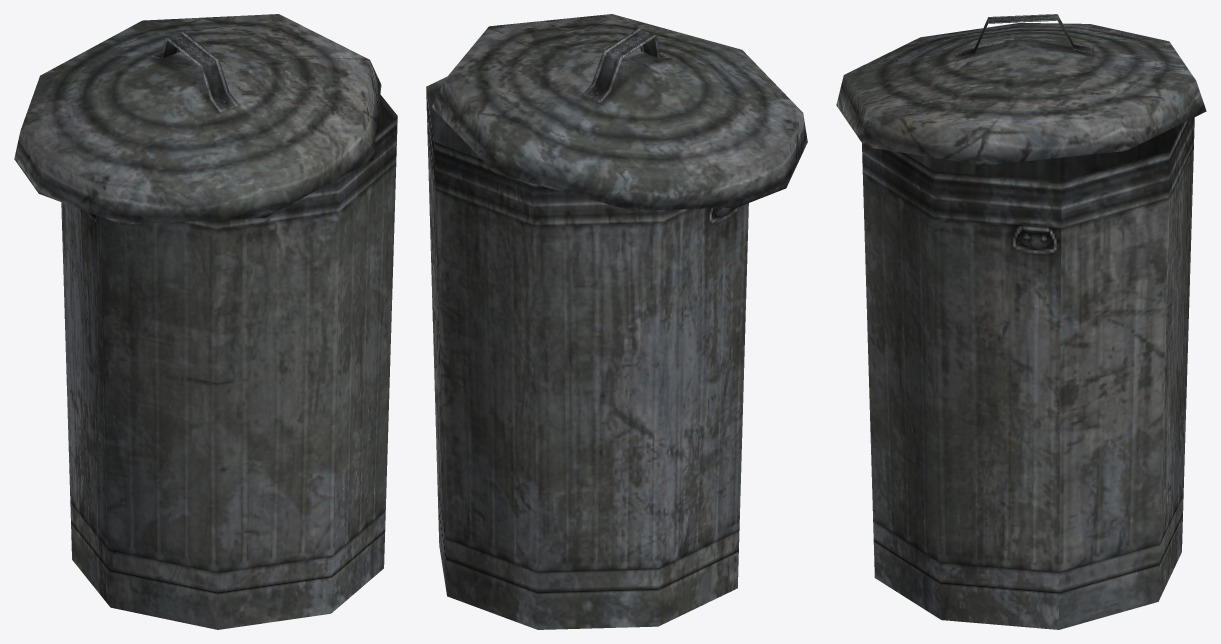
The model's file is Trash1_LOD1.fbx.
3 views of the same model, side by side, from view 1: azimuth 30°, elevation 25°; view 2: azimuth 150°, elevation 25°; view 3: azimuth 270°, elevation 25° (orthographic).
Visible parts, largest first — view 1: polySurface8; view 2: polySurface8; view 3: polySurface8.
Part boxes in pixels (x1,y1,x2,y2): polySurface8: (14,14,397,629); polySurface8: (426,14,807,629); polySurface8: (836,14,1206,629).
Bounding box in the file's own units: 0.7678 × 1.15 × 0.7293.
